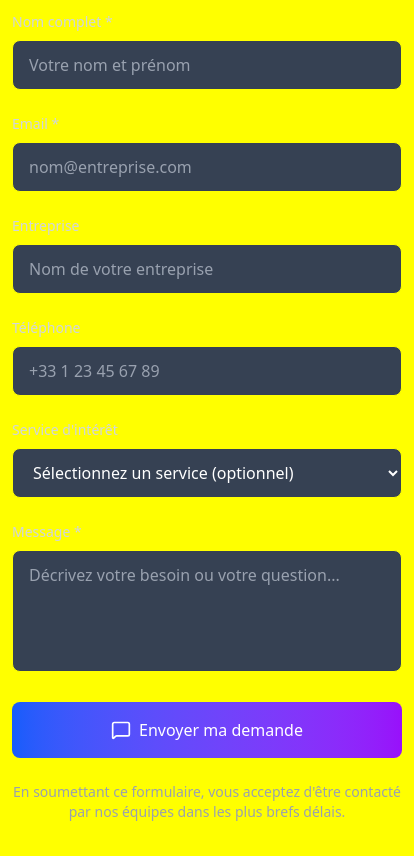
it: ContactForm - Test 6: Gestion d'erreur API › API Error Responses › handles server error (500)
This screenshot has width=414, height=856.
Step 1. Type "John Doe" into the field labelled "Nom complet *" → (207, 65), box [12, 40, 402, 90]
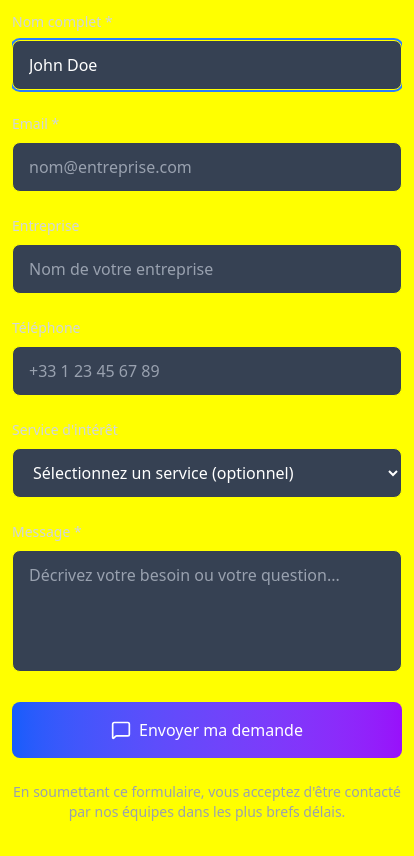
Step 2. Type "john@example.com" into the field labelled "Email *" → (207, 167), box [12, 142, 402, 192]
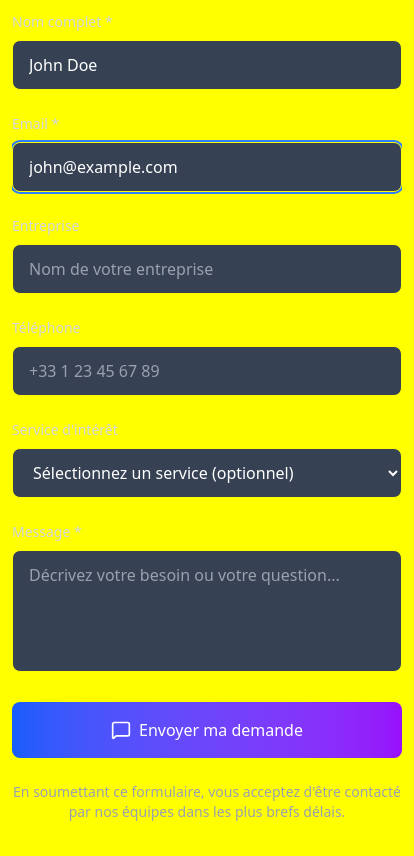
Step 3. Type "Test message de plus de 10 caractères" into the text box labelled "Message *" → (207, 611), box [12, 550, 402, 672]
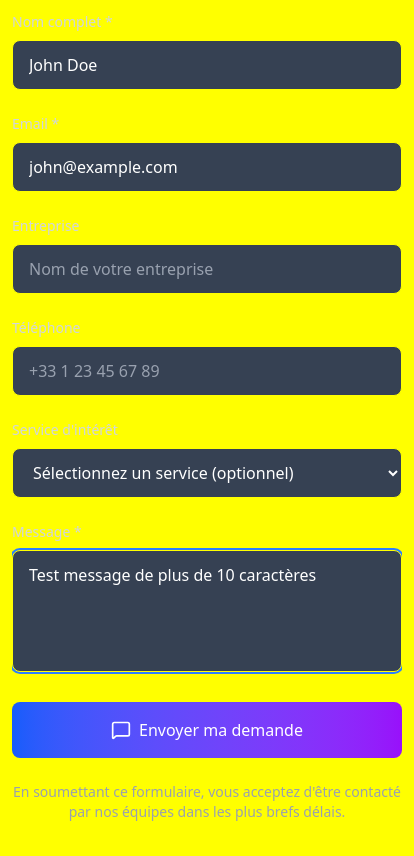
Step 4. Click the button "Envoyer ma demande" → (207, 730), box [12, 702, 402, 758]
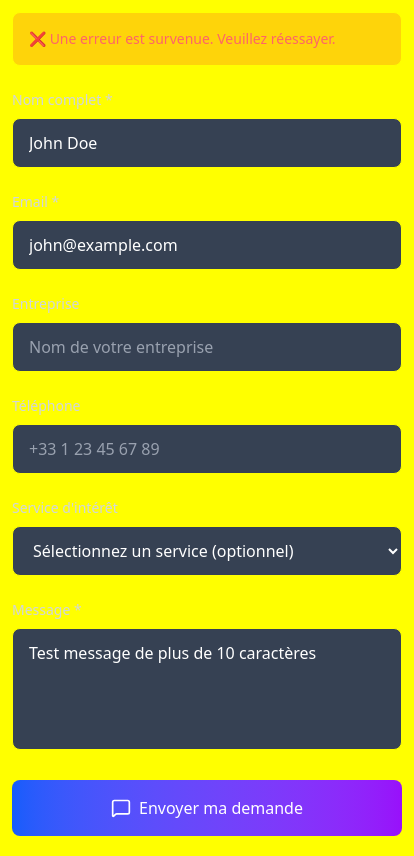
Result: the text "❌ Une erreur est survenue. Veuillez réessayer." is shown at [12, 12, 402, 66]
